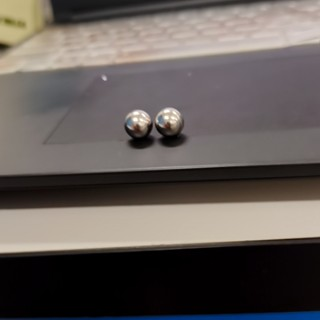ironball: (118, 103, 153, 148), (153, 104, 190, 146)
